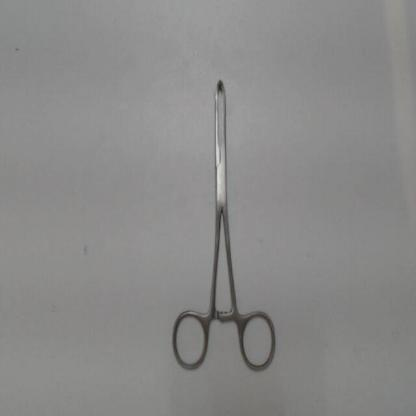Allis Tissue Forceps: (167, 69, 285, 376)
